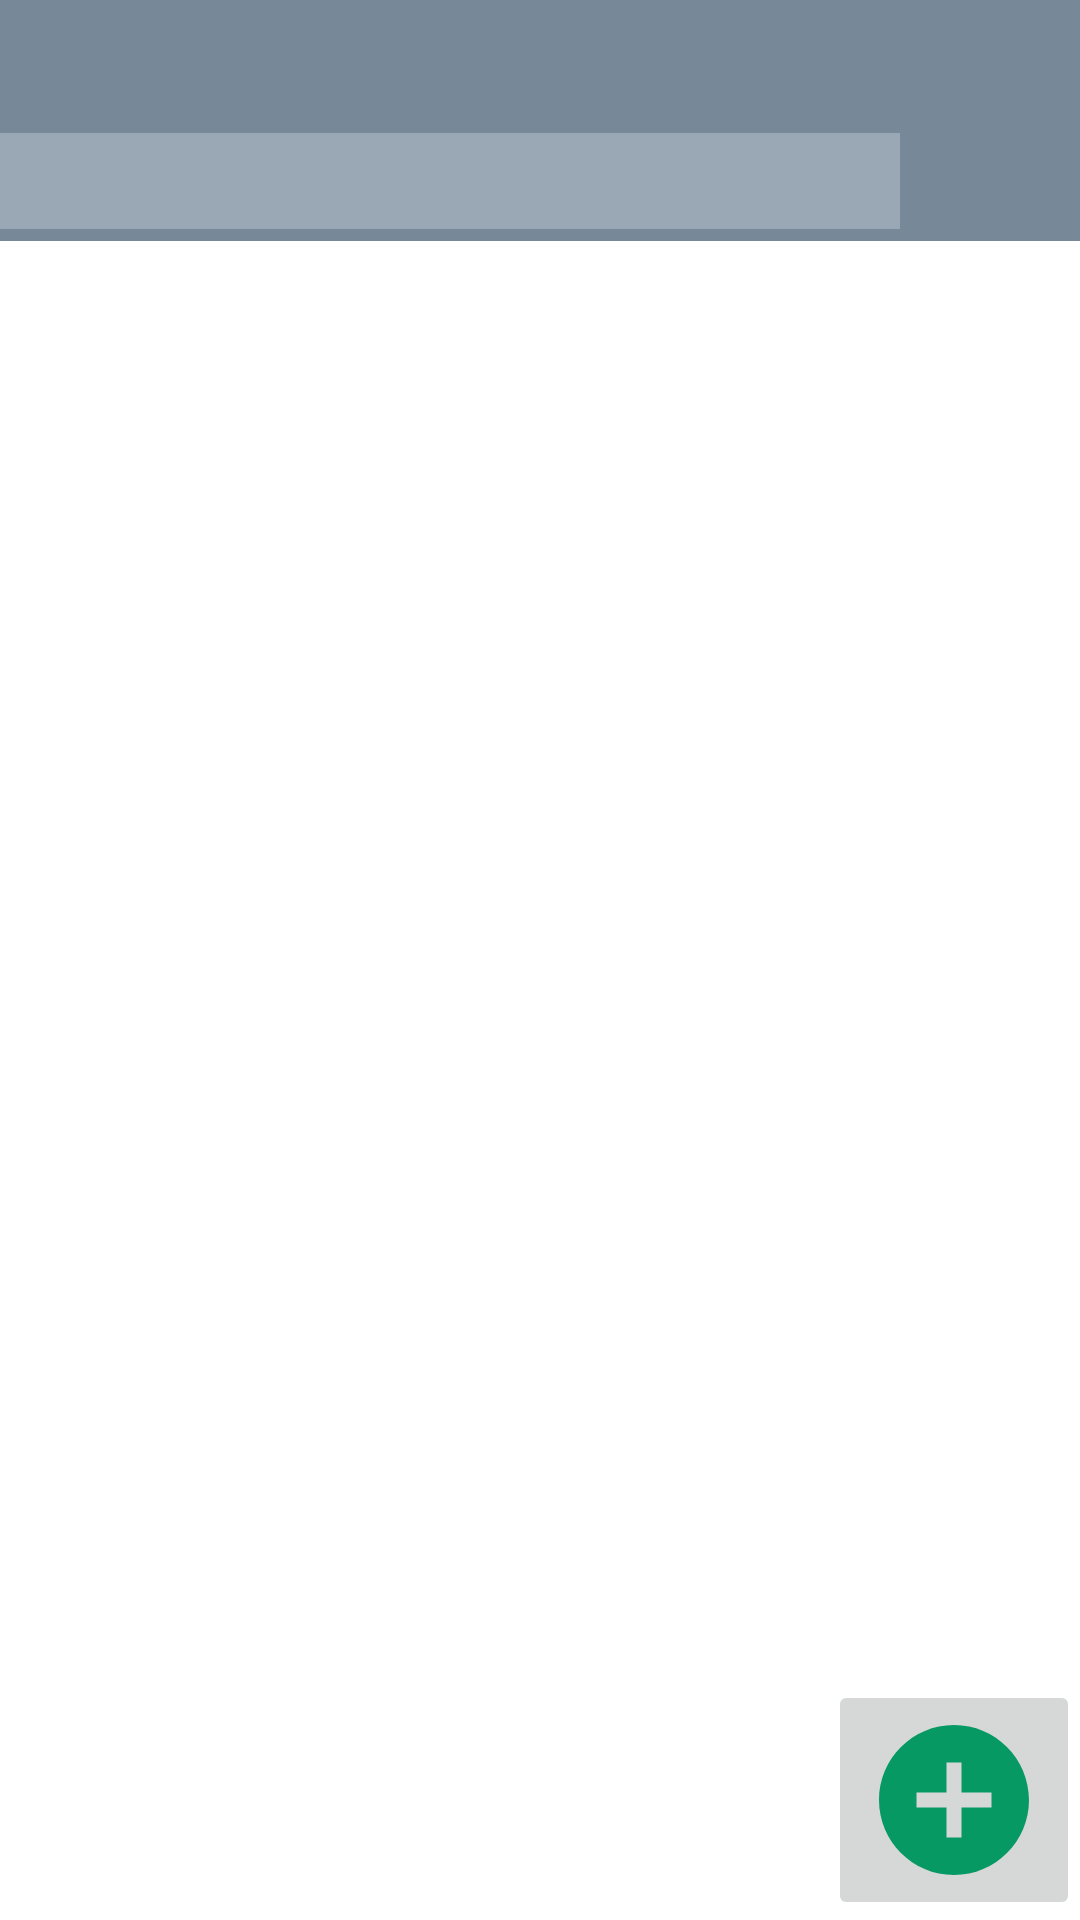

Where to tap for icons on this 1080px x 1920px app screen, as (x=x, y=y):
add circle: (x=954, y=1800)
